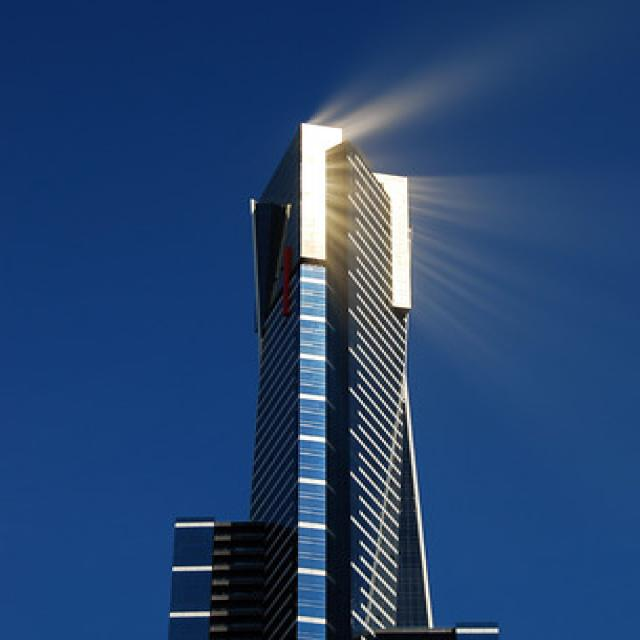building: (238, 109, 440, 640)
